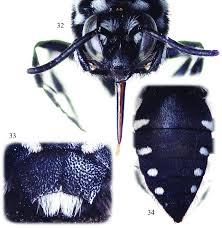Thyreus: (35, 0, 198, 119)
